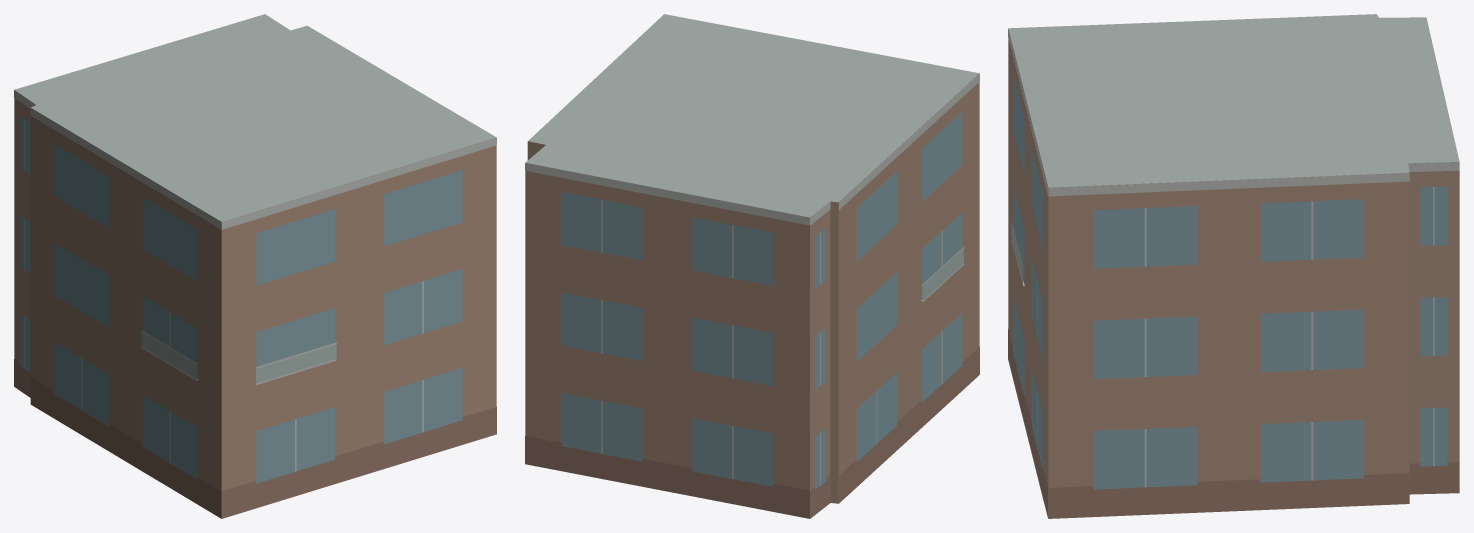
Rendered from survey-upis-32663089.glb.
3 views of the same model, side by side, from view 1: azimuth 30°, elevation 25°; view 2: azimuth 150°, elevation 25°; view 3: azimuth 270°, elevation 25° (orthographic). The views are drawn at different scales.
Visible parts, largest first — view 1: survey-upis-32663089.tmp; view 2: survey-upis-32663089.tmp; view 3: survey-upis-32663089.tmp.
Boxes of the visible parts, bbox=[...] form: survey-upis-32663089.tmp: bbox=[14, 14, 496, 518]; survey-upis-32663089.tmp: bbox=[525, 14, 979, 518]; survey-upis-32663089.tmp: bbox=[1008, 14, 1459, 518].
Bounding box in the file's own units: 10.3 × 9.15 × 11.31.
